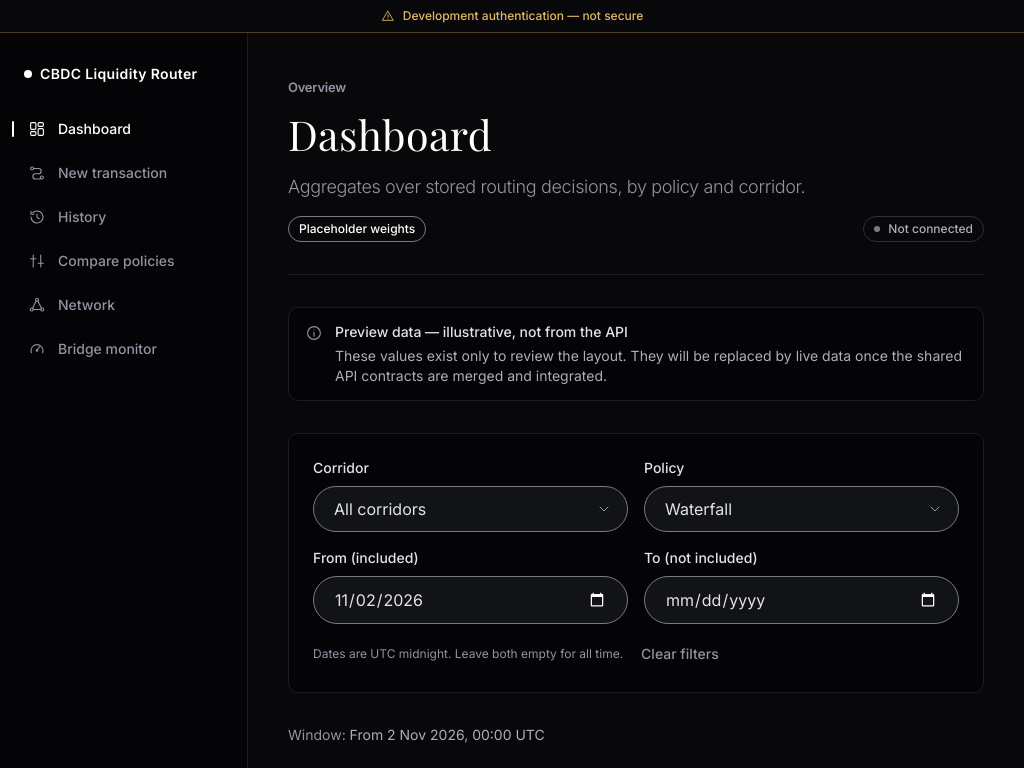
Test: Dashboard filters (URL-backed) › clears the filters
This screenshot has width=1024, height=768.
Click the button "Clear filters" at {"x": 680, "y": 654}, box [635,640,725,668]
(page scrolled)
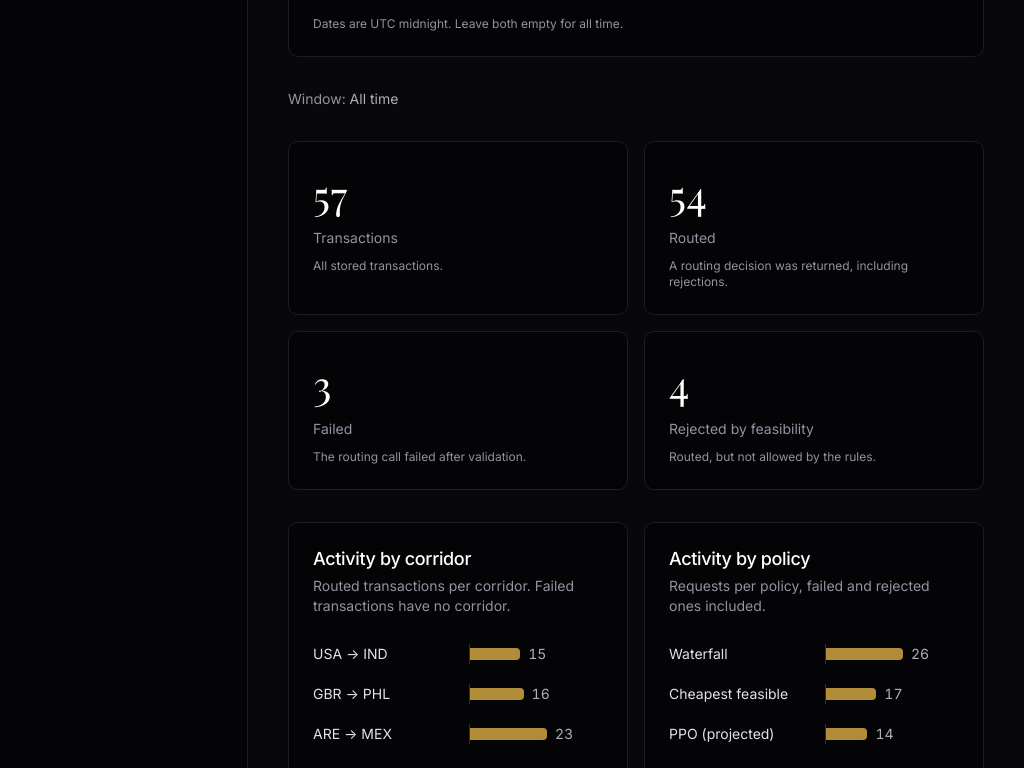
Now the text with test id "window" reads "All time", box [350,90,398,107]
Now the text "57" is shown, box [313,166,348,221]
Now the text "54" is shown, box [669,166,707,221]
